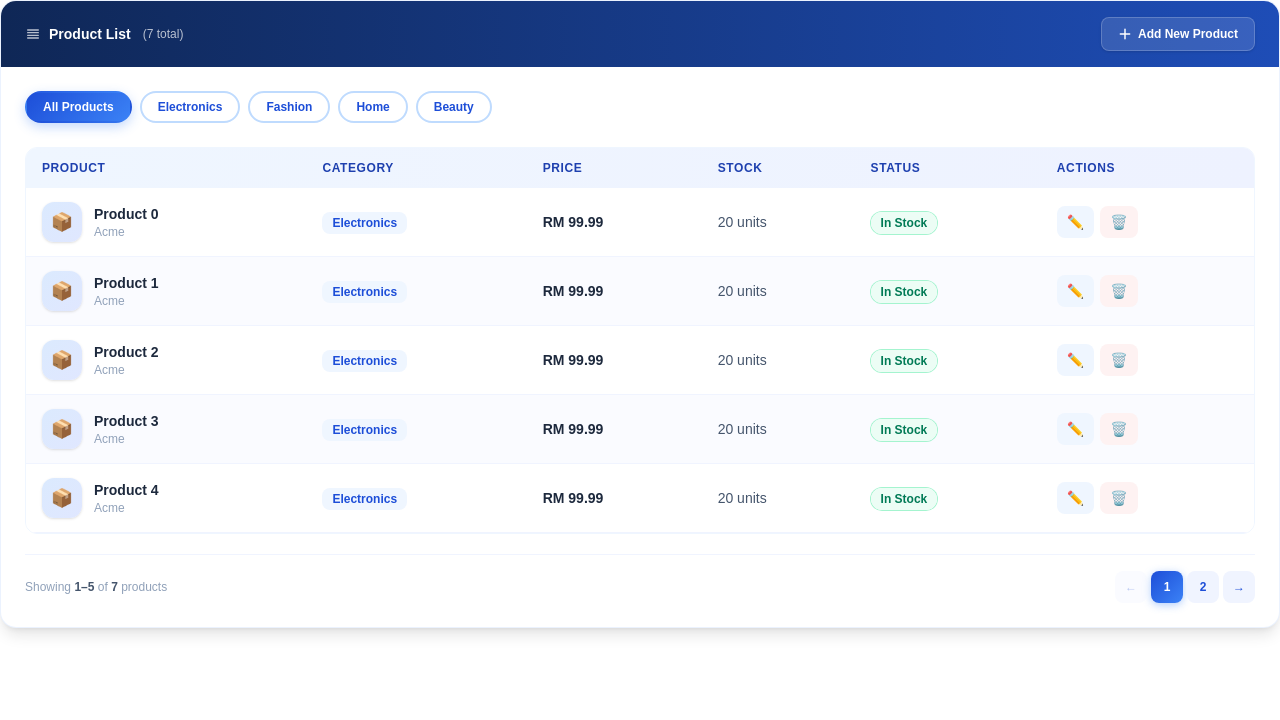
Test: ProductsTable — pagination › resets to page 1 when category filter changes
# Go to page 2
Click the button "→".
click(1239, 587)  # box 1223,571 -> 1255,603
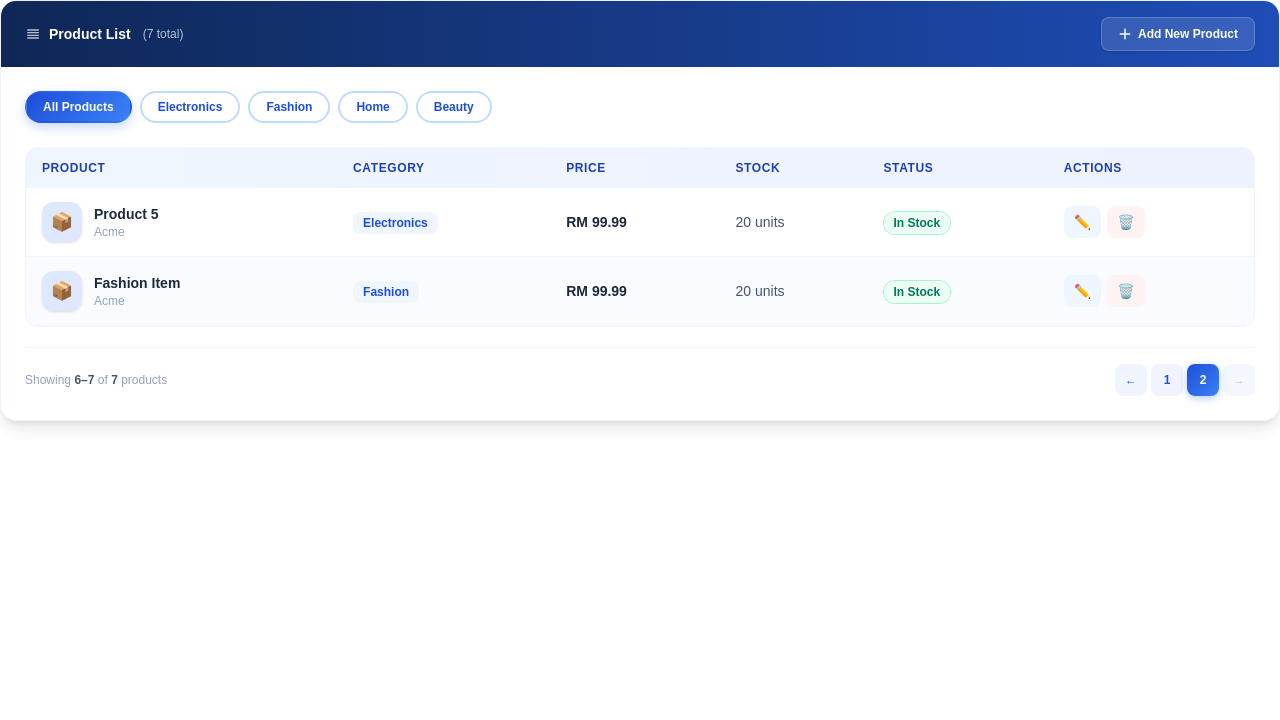
Expected: the text "Product 0" is gone
# Switch filter
Click the button "Electronics".
click(190, 107)  # box 140,91 -> 240,123
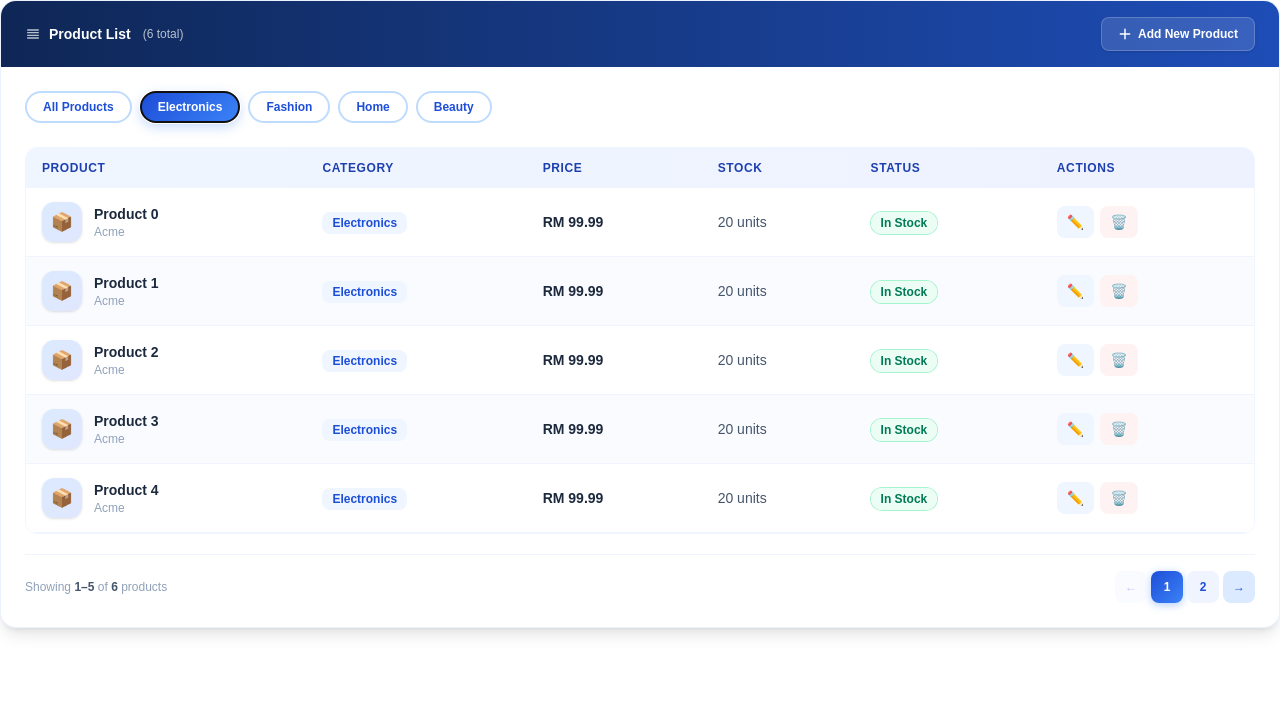
Expected: the text "Product 0" is shown, 94,204 -> 159,224
